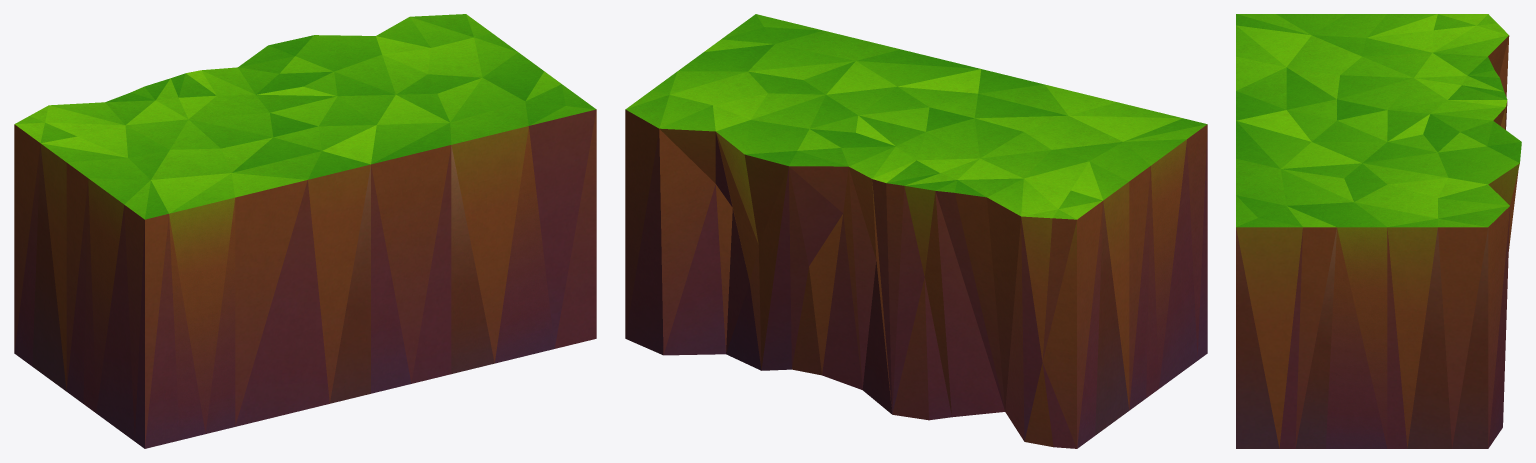
The model's file is Terrain-part-13.fbx.
3 renders of one model, left to right at view 1: azimuth 30°, elevation 25°; view 2: azimuth 150°, elevation 25°; view 3: azimuth 270°, elevation 25°, orthographic. The views are drawn at different scales.
Visible parts, largest first — view 1: Terrain-part-13; view 2: Terrain-part-13; view 3: Terrain-part-13.
Boxes of the visible parts, box(x1,y1,x2,y2) form: Terrain-part-13: box(14, 14, 596, 448); Terrain-part-13: box(625, 14, 1207, 448); Terrain-part-13: box(1236, 14, 1521, 448).
Size of the model in its own units: 6 by 3 by 3.4.
